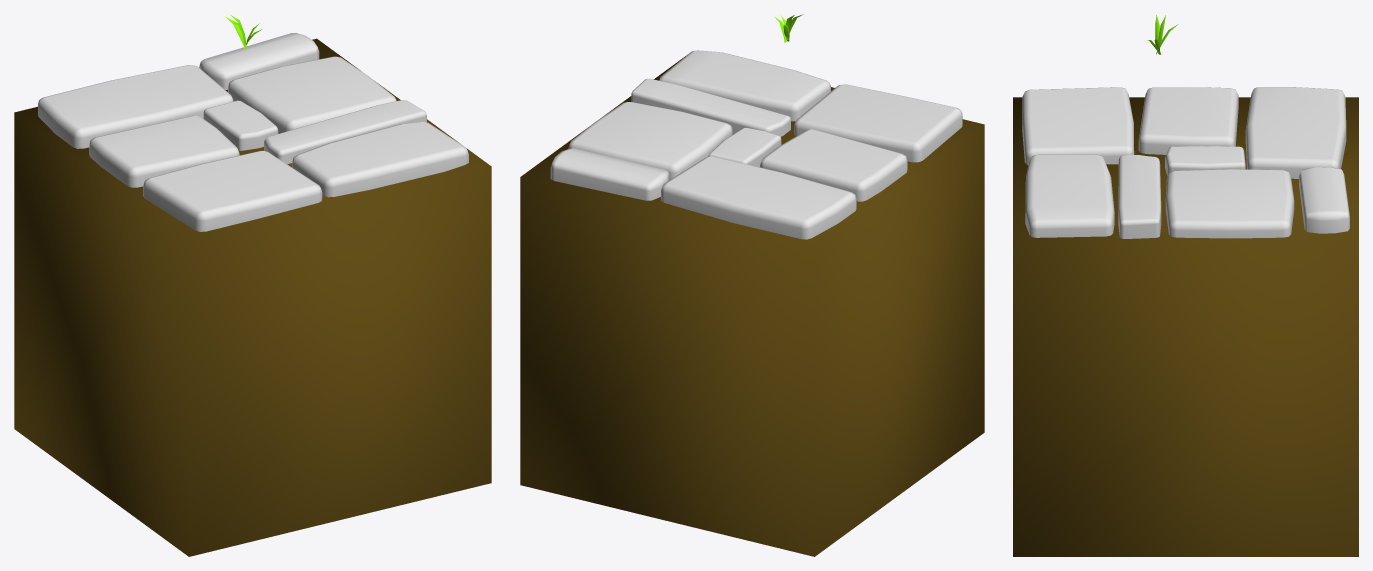
File: square_pack_outmost.fbx
The picture shows the model from 3 angles, left to right: view 1: azimuth 30°, elevation 25°; view 2: azimuth 150°, elevation 25°; view 3: azimuth 270°, elevation 25°; orthographic projection. The views are drawn at different scales.
Parts seen in each view (by area): view 1: pCube15, pCube155, pCube156, pCube154, pCube153, pCube152, pCube159, pCube157, pCube158; view 2: pCube15, pCube156, pCube155, pCube153, pCube154, pCube152, pCube157, pCube159, pCube158; view 3: pCube15, pCube153, pCube156, pCube155, pCube154, pCube152, pCube159, pCube157, pCube158.
Boxes of the visible parts, x1,y1,x2,y2 form: pCube15: [14, 38, 491, 556]; pCube155: [143, 151, 322, 231]; pCube156: [38, 65, 233, 148]; pCube154: [292, 122, 468, 197]; pCube153: [228, 56, 396, 133]; pCube152: [89, 115, 239, 187]; pCube159: [264, 100, 426, 164]; pCube157: [199, 33, 319, 89]; pCube158: [203, 100, 278, 150]; pCube15: [520, 54, 984, 556]; pCube156: [661, 156, 856, 239]; pCube155: [794, 84, 962, 162]; pCube153: [568, 102, 732, 179]; pCube154: [659, 50, 830, 121]; pCube152: [760, 129, 907, 201]; pCube157: [550, 148, 669, 200]; pCube159: [631, 78, 790, 136]; pCube158: [708, 128, 781, 167]; pCube15: [1013, 97, 1358, 556]; pCube153: [1165, 169, 1294, 238]; pCube156: [1245, 87, 1346, 178]; pCube155: [1022, 87, 1134, 164]; pCube154: [1025, 154, 1114, 237]; pCube152: [1138, 87, 1238, 154]; pCube159: [1118, 155, 1161, 238]; pCube157: [1299, 167, 1349, 233]; pCube158: [1165, 146, 1245, 176].
Size of the model in its own units: 100 by 145 by 100.
